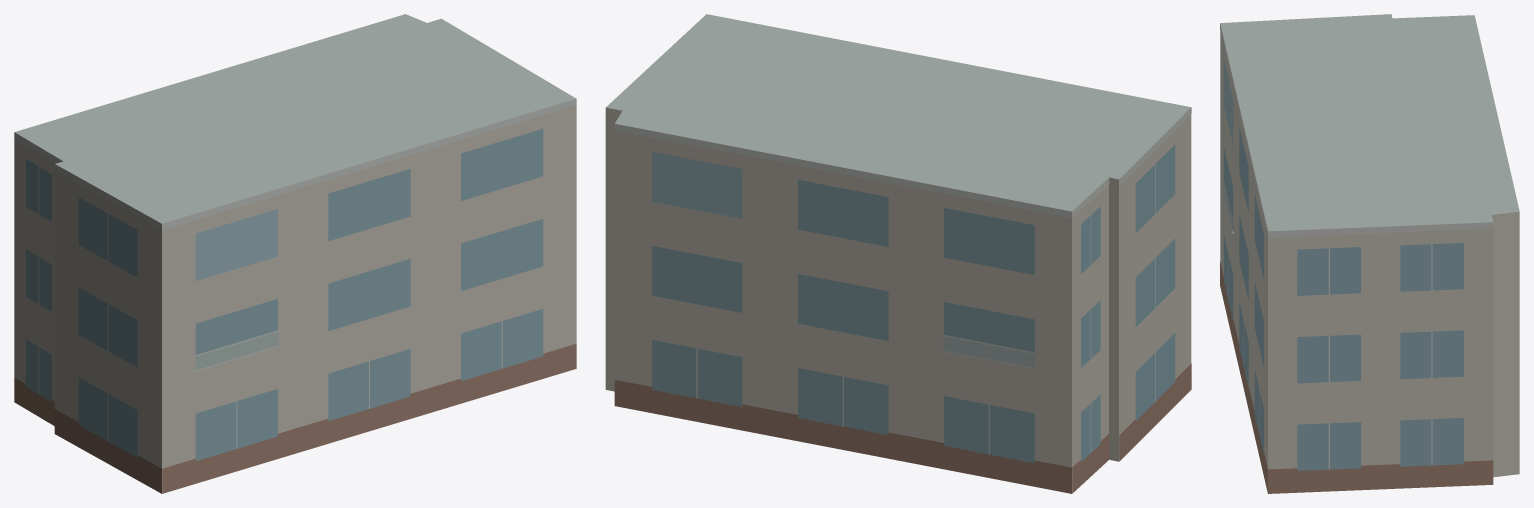
Rendered from survey-upis-32615317.glb.
3 renders of one model, left to right at view 1: azimuth 30°, elevation 25°; view 2: azimuth 150°, elevation 25°; view 3: azimuth 270°, elevation 25°, orthographic. The views are drawn at different scales.
Parts seen in each view (by area): view 1: survey-upis-32615317.tmp; view 2: survey-upis-32615317.tmp; view 3: survey-upis-32615317.tmp.
Boxes of the visible parts, box(x1,y1,x2,y2) form: survey-upis-32615317.tmp: box(14, 14, 576, 493); survey-upis-32615317.tmp: box(605, 14, 1191, 493); survey-upis-32615317.tmp: box(1220, 14, 1519, 493).
Size of the model in its own units: 18.48 by 10.4 by 10.77.
